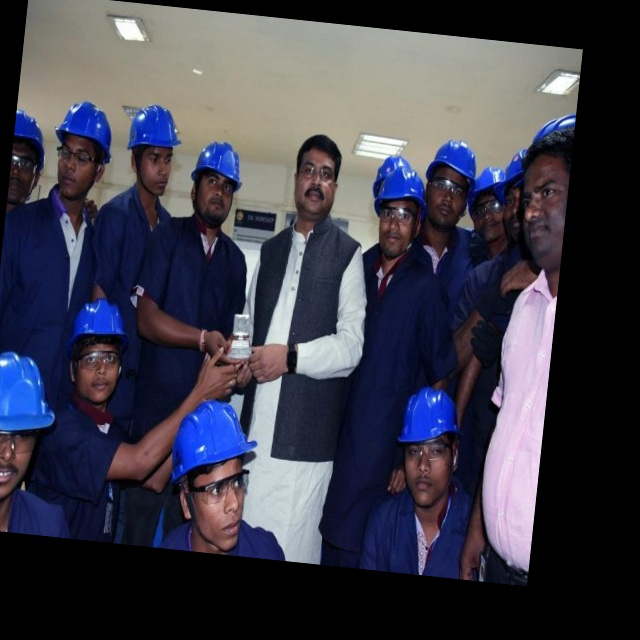Con_Casco: (126, 102, 182, 193), (188, 140, 243, 225)
Sin_Casco_Mascarrilla: (291, 135, 346, 214)
